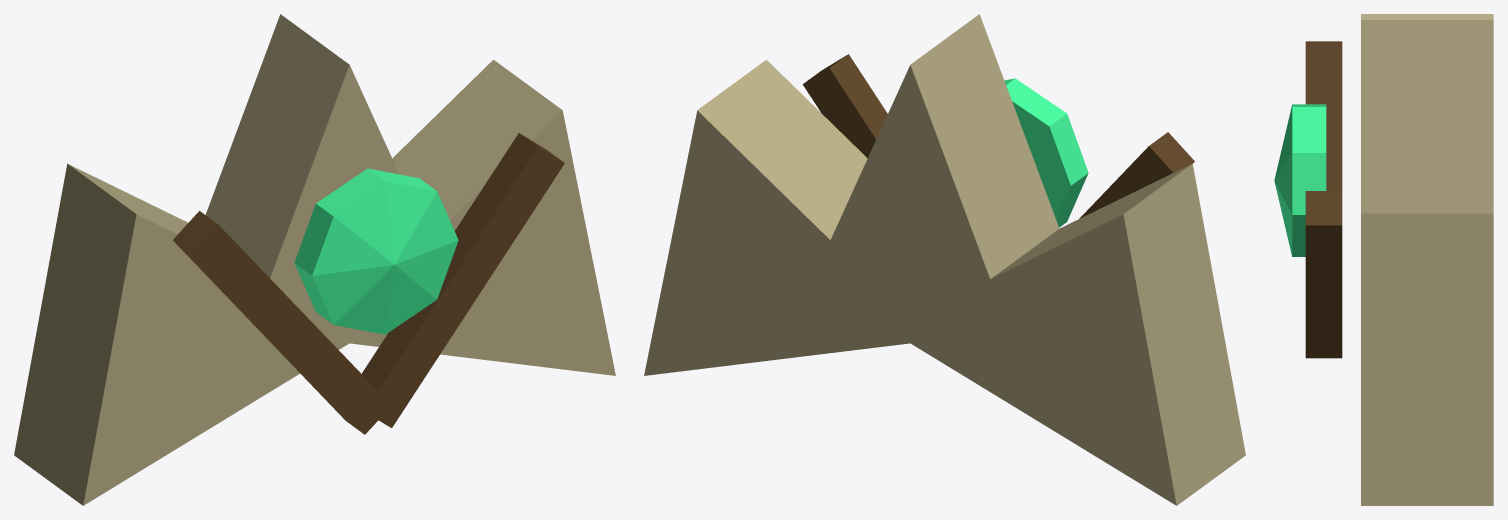
Rendered from phoenix_wings.obj.
The picture shows the model from 3 angles, left to right: view 1: azimuth 30°, elevation 25°; view 2: azimuth 150°, elevation 25°; view 3: azimuth 270°, elevation 25°; orthographic projection. The views are drawn at different scales.
Parts seen in each view (by area): view 1: phoenix_wings, phoenix_wings_edge, phoenix_gem, phoenix_feather_0.13, phoenix_feather_-0.13, phoenix_feather_0.13_edge, phoenix_feather_-0.13_edge; view 2: phoenix_wings, phoenix_wings_edge, phoenix_gem, phoenix_feather_0.13, phoenix_feather_0.13_edge, phoenix_feather_-0.13, phoenix_feather_-0.13_edge; view 3: phoenix_wings_edge, phoenix_feather_0.13_edge, phoenix_gem, phoenix_feather_-0.13_edge.
Boxes of the visible parts, left/top/right/bottom form: phoenix_wings: left=83, top=65, right=615, bottom=505; phoenix_wings_edge: left=14, top=14, right=562, bottom=505; phoenix_gem: left=294, top=168, right=458, bottom=334; phoenix_feather_0.13: left=365, top=147, right=564, bottom=428; phoenix_feather_-0.13: left=192, top=225, right=378, bottom=434; phoenix_feather_0.13_edge: left=361, top=133, right=562, bottom=391; phoenix_feather_-0.13_edge: left=173, top=211, right=364, bottom=434; phoenix_wings: left=644, top=65, right=1176, bottom=505; phoenix_wings_edge: left=697, top=14, right=1245, bottom=505; phoenix_gem: left=1004, top=78, right=1088, bottom=227; phoenix_feather_0.13: left=803, top=68, right=875, bottom=158; phoenix_feather_0.13_edge: left=803, top=54, right=887, bottom=139; phoenix_feather_-0.13: left=1079, top=146, right=1172, bottom=218; phoenix_feather_-0.13_edge: left=1149, top=132, right=1194, bottom=172; phoenix_wings_edge: left=1361, top=14, right=1493, bottom=505; phoenix_feather_0.13_edge: left=1305, top=191, right=1342, bottom=358; phoenix_gem: left=1274, top=104, right=1326, bottom=256; phoenix_feather_-0.13_edge: left=1305, top=41, right=1342, bottom=190.
Size of the model in its own units: 0.4 by 0.27 by 0.1487.
